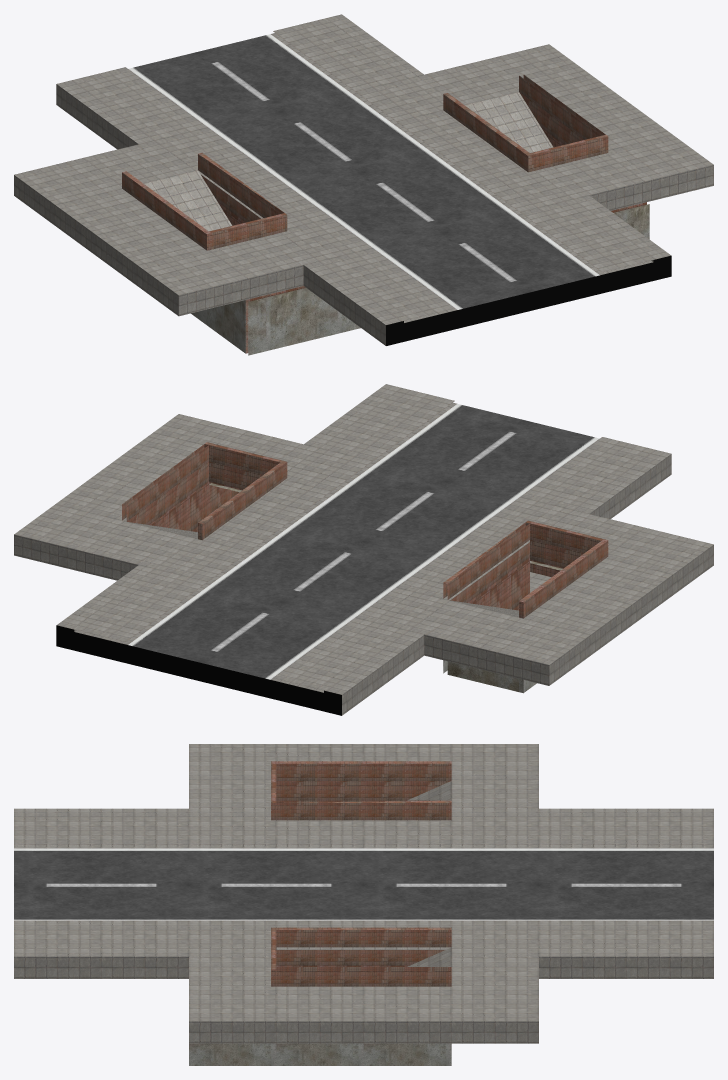
Rendered from SingleUnderpass_2.fbx.
The picture shows the model from 3 angles, top to bottom: view 1: azimuth 30°, elevation 25°; view 2: azimuth 150°, elevation 25°; view 3: azimuth 270°, elevation 25°; orthographic projection. The views are drawn at different scales.
Visible parts, largest first — view 1: materialA150, materialE150, materialC150, materialD150, materialB150; view 2: materialA150, materialE150, materialC150, materialB150, materialD150; view 3: materialA150, materialE150, materialC150, materialD150.
Boxes of the visible parts, x1,y1,x2,y2 form: materialA150: [14, 14, 713, 345]; materialE150: [128, 34, 599, 309]; materialC150: [122, 75, 646, 353]; materialD150: [191, 204, 649, 355]; materialB150: [386, 255, 671, 345]; materialA150: [14, 384, 713, 715]; materialE150: [128, 404, 599, 679]; materialC150: [122, 442, 608, 618]; materialB150: [56, 625, 341, 715]; materialD150: [209, 483, 562, 693]; materialA150: [14, 744, 713, 1043]; materialE150: [14, 848, 713, 920]; materialC150: [271, 761, 451, 986]; materialD150: [189, 1043, 451, 1065].
Bounding box in the file's own units: 48 × 7.8 × 51.2.
